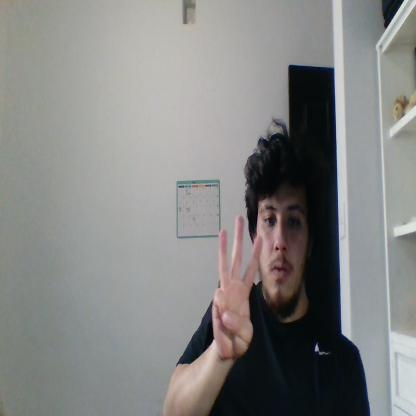W: (212, 214, 263, 358)
